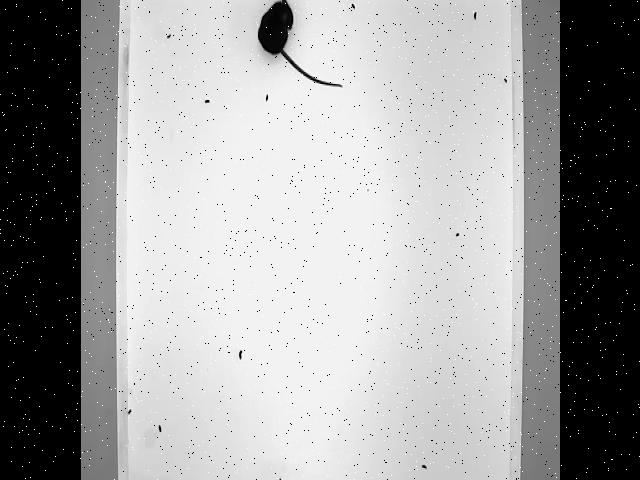Tikus: (256, 0, 344, 92)
